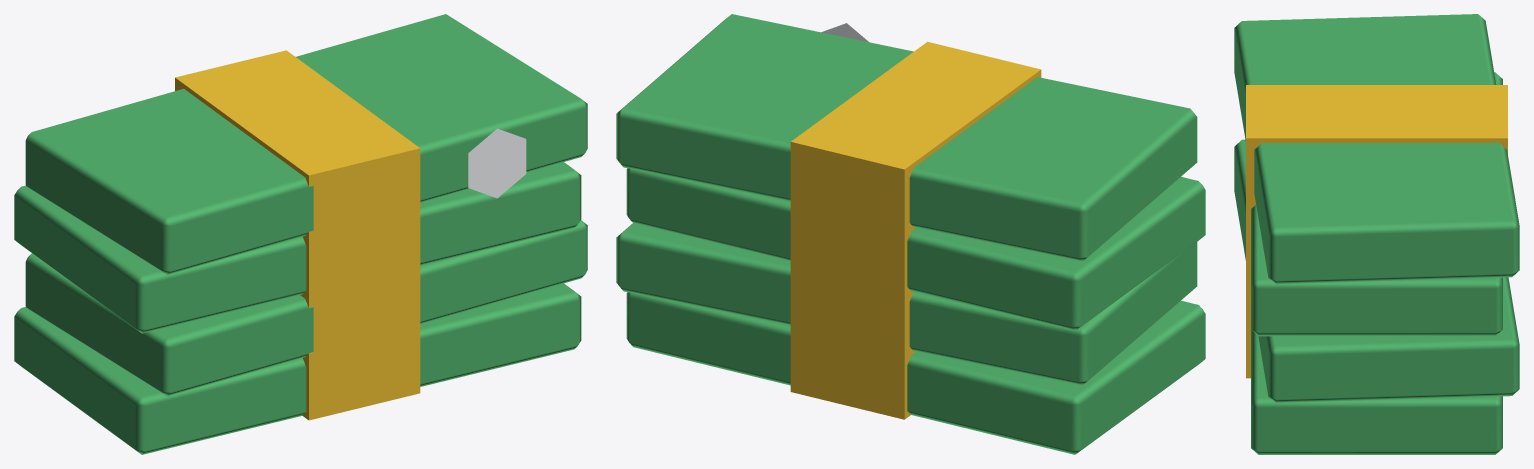
File: CM_Event_CashStack.fbx
3 renders of one model, left to right at view 1: azimuth 30°, elevation 25°; view 2: azimuth 150°, elevation 25°; view 3: azimuth 270°, elevation 25°, orthographic. The views are drawn at different scales.
Parts seen in each view (by area): view 1: Body; view 2: Body; view 3: Body.
Part boxes in pixels (x1,y1,x2,y2): Body: (14,14,587,454); Body: (616,14,1205,454); Body: (1234,14,1519,454).
Size of the model in its own units: 2.07 by 1.13 by 1.05.
Materials: 1 (1 with a texture image).
